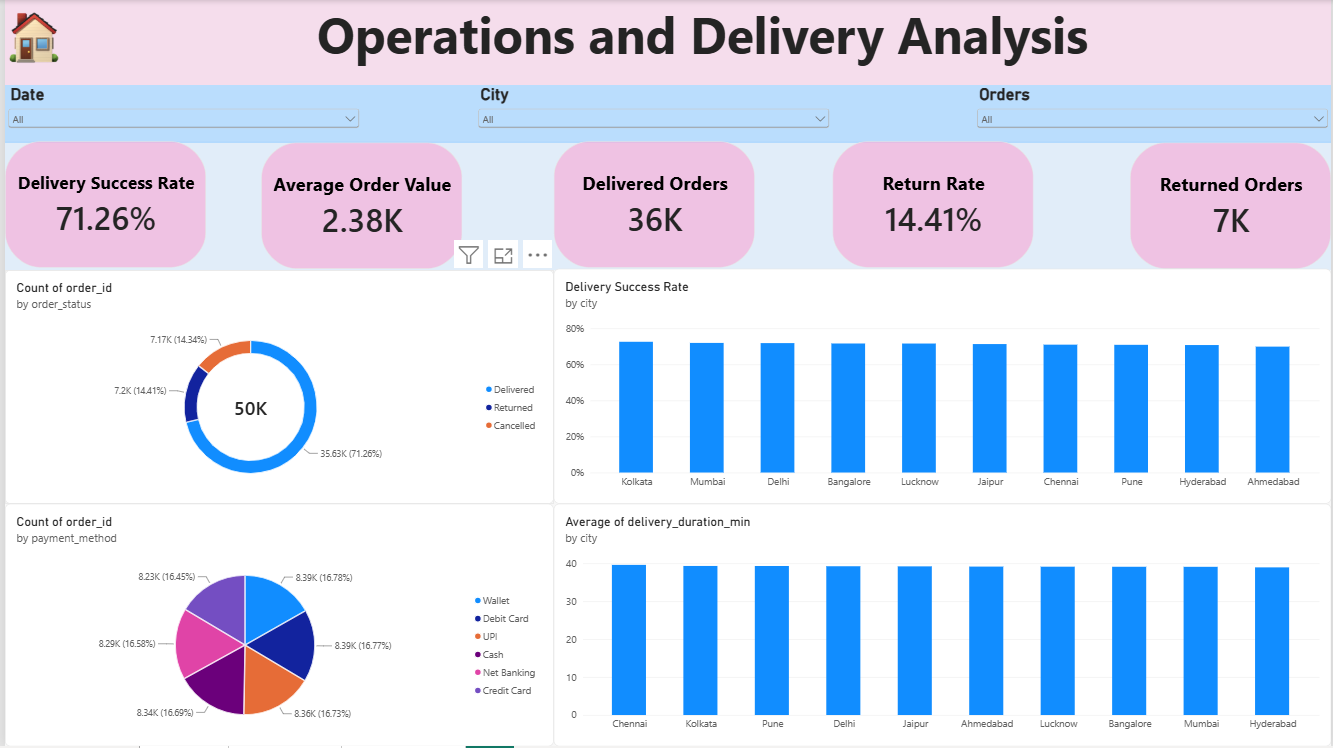

The page's visual inventory and layout, read from the dashboard file:
{"tool":"powerbi","page":{"name":"operations","canvas":[1920,1080],"ordinal":2},"visuals":[{"type":"group","id":"g1","title":"Group 1","box":[0,-0.5,1920.4,123.5],"z":0},{"type":"textbox","box":[0,-0.5,1920.4,123.5],"z":0,"group":"g1"},{"type":"cardVisual","fields":{"Data":["quickkart customers.Returned Orders"]},"box":[1628.7,205.8,291.4,183.7],"z":0,"group":"g3"},{"type":"image","box":[0,16.5,84.4,76.2],"z":1000},{"type":"cardVisual","fields":{"Data":["quickkart customers.Return Rate"]},"box":[1198,204.5,291.4,183.7],"z":1000,"group":"g3"},{"type":"group","id":"g2","title":"Group 2","box":[0,123.5,1920.4,82.3],"z":2000},{"type":"cardVisual","fields":{"Data":["quickkart customers.Delivered Orders"]},"box":[794.4,204.5,291.4,183.7],"z":2000,"group":"g3"},{"type":"group","id":"g3","title":"Group 3","box":[0,204.5,1920.1,186.4],"z":3000},{"type":"cardVisual","fields":{"Data":["quickkart customers.Average Order Value"]},"box":[371,207.2,291.4,183.7],"z":3000,"group":"g3"},{"type":"cardVisual","fields":{"Data":["quickkart customers.Delivery Success Rate"]},"box":[0,204.5,291.4,183.7],"z":4000,"group":"g3"},{"type":"donutChart","fields":{"Category":["quickkart orders.order_status"],"Y":["CountNonNull(quickkart orders.order_id)"]},"box":[0,390.9,794.4,338.4],"z":4000},{"type":"pieChart","fields":{"Y":["CountNonNull(quickkart orders.order_id)"],"Category":["quickkart orders.payment_method"]},"box":[0,729.3,794.4,351.1],"z":5000},{"type":"columnChart","fields":{"Category":["quickkart stores.city"],"Y":["quickkart customers.Delivery Success Rate"]},"box":[794.4,389.1,1125.6,340.2],"z":6000},{"type":"columnChart","fields":{"Category":["quickkart customers.city"],"Y":["Avg(quickkart deliveries.delivery_duration_min)"]},"box":[794.4,729.3,1125.6,351.1],"z":7000},{"type":"slicer","fields":{"Values":["quickkart orders.order_datetime"]},"box":[0,123.5,517.5,82.3],"z":8000,"group":"g2"},{"type":"slicer","fields":{"Values":["quickkart customers.city"]},"box":[680.1,123.5,517.5,82.3],"z":9000,"group":"g2"},{"type":"slicer","fields":{"Values":["quickkart orders.order_status"]},"box":[1402.9,123.5,517.5,82.3],"z":11000,"group":"g2"}]}

Visuals, with their boxes in screenshot pixels (x1, y1, x2, y2), scaled from the page's 1920x1080 canvas onto the 1333x748 screenshot:
"Group 1" group: Rect(0, 0, 1332, 85)
textbox: Rect(0, 0, 1332, 85)
cardVisual - quickkart customers.Returned Orders: Rect(1131, 143, 1332, 270)
image: Rect(0, 11, 59, 64)
cardVisual - quickkart customers.Return Rate: Rect(832, 142, 1034, 269)
"Group 2" group: Rect(0, 86, 1332, 143)
cardVisual - quickkart customers.Delivered Orders: Rect(552, 142, 754, 269)
"Group 3" group: Rect(0, 142, 1332, 271)
cardVisual - quickkart customers.Average Order Value: Rect(258, 144, 460, 271)
cardVisual - quickkart customers.Delivery Success Rate: Rect(0, 142, 202, 269)
donutChart - quickkart orders.order_status x CountNonNull(quickkart orders.order_id): Rect(0, 271, 552, 505)
pieChart - CountNonNull(quickkart orders.order_id) x quickkart orders.payment_method: Rect(0, 505, 552, 747)
columnChart - quickkart stores.city x quickkart customers.Delivery Success Rate: Rect(552, 269, 1332, 505)
columnChart - quickkart customers.city x Avg(quickkart deliveries.delivery_duration_min): Rect(552, 505, 1332, 747)
slicer - quickkart orders.order_datetime: Rect(0, 86, 359, 143)
slicer - quickkart customers.city: Rect(472, 86, 831, 143)
slicer - quickkart orders.order_status: Rect(974, 86, 1332, 143)
